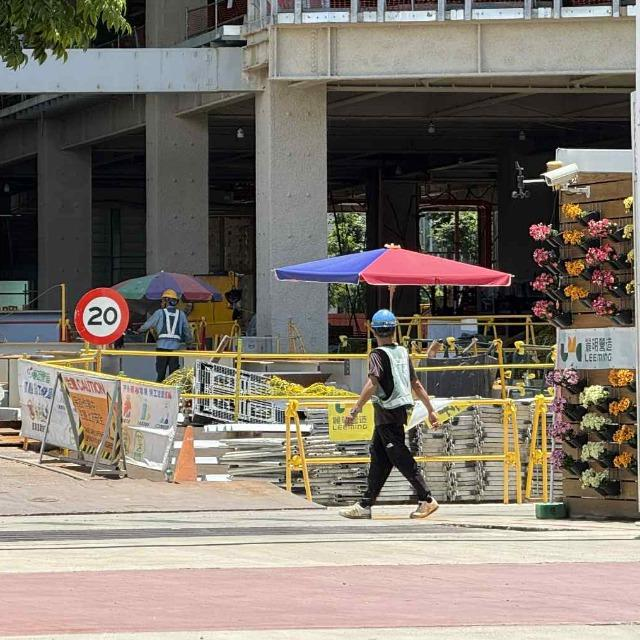Helmet: (367, 305, 406, 348)
NoVest: (362, 344, 425, 419)
Vest: (151, 304, 192, 354)
